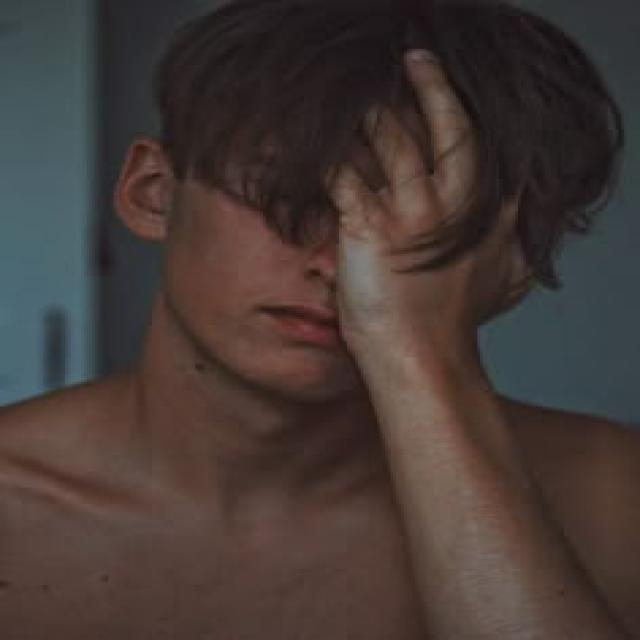7_mano_rostro: (318, 43, 510, 519)
